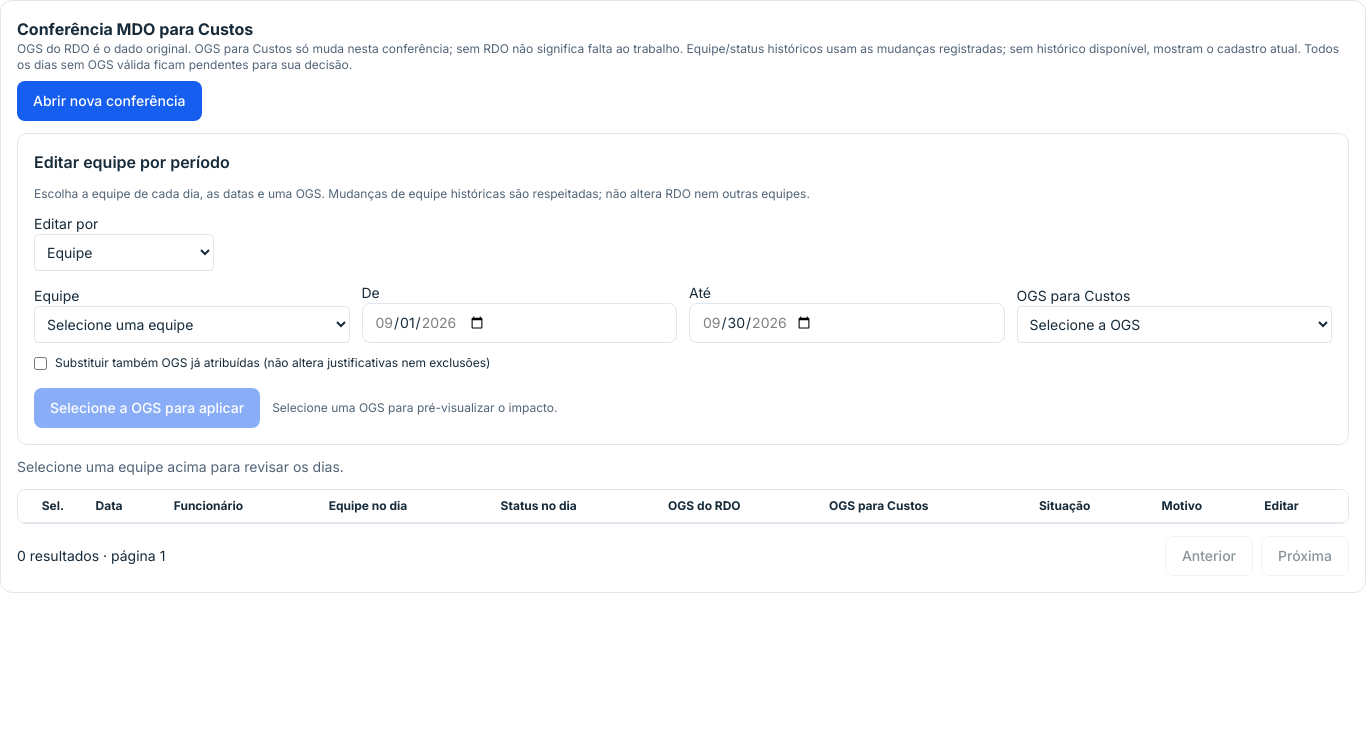
Test: conferência MDO por equipe › mostra os 30 dias de Brian e agrupa 28 em Thiago, 2 em AFASTADOS sem RDO
The width and height of the screenshot is (1366, 739).
Step 1. Select "Funcionário" in the dropdown labelled "Editar por" → (124, 252), box [34,234,214,271]
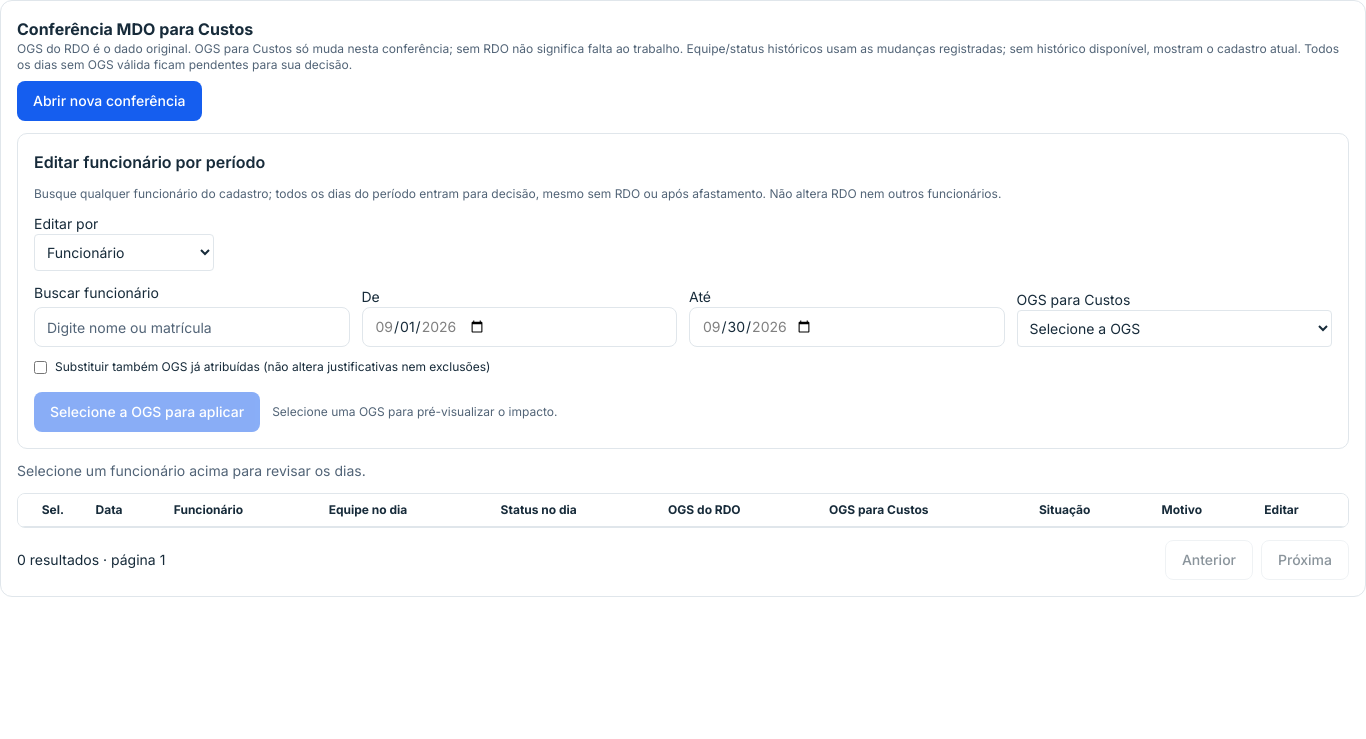
Step 2. Type "brian" into the field named "Buscar funcionário para conferência MDO" → (192, 327), box [34,307,350,347]
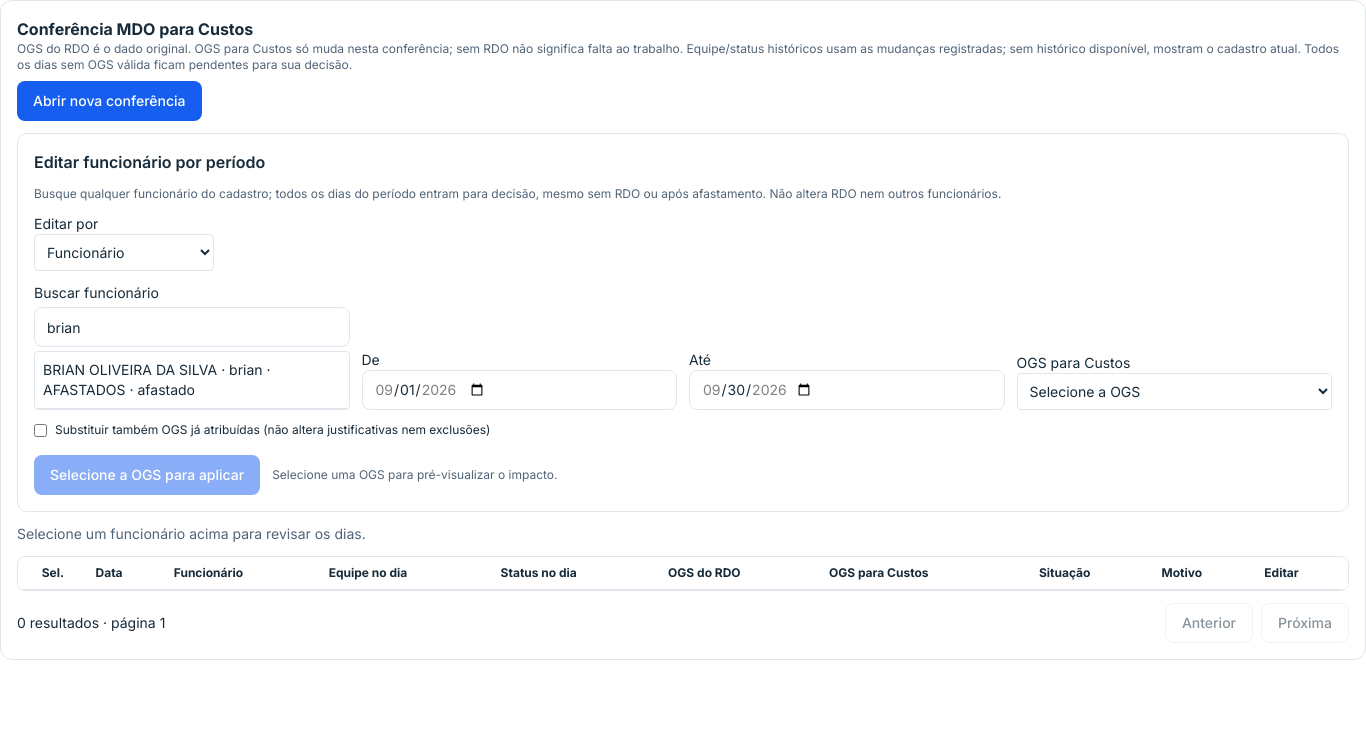
Step 3. Click the button "BRIAN OLIVEIRA DA SILVA · brian · AFASTADOS · afastado" → (192, 380), box [35,352,348,409]
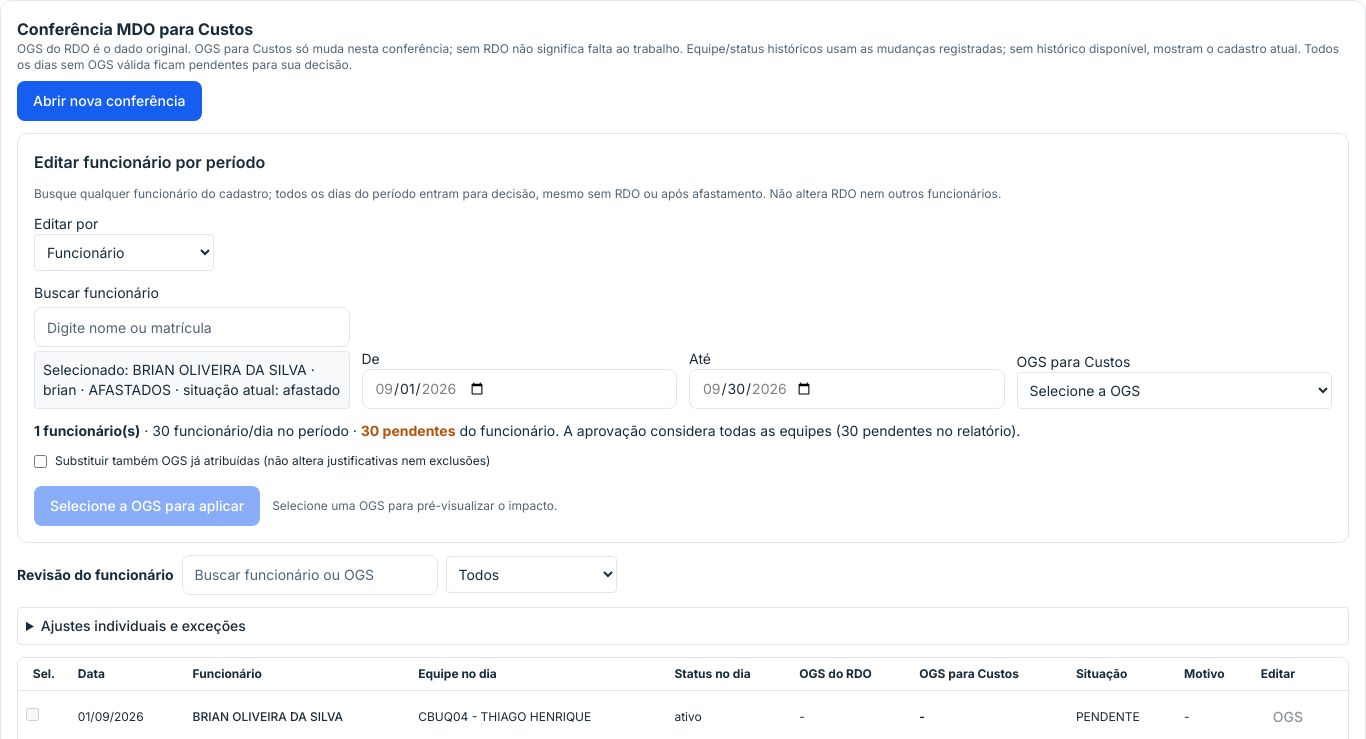
Now the text "30 funcionário/dia no período" is shown, box [34,422,1020,439]
Step 4. Select "Equipe" in the dropdown labelled "Editar por" → (124, 252), box [34,234,214,271]
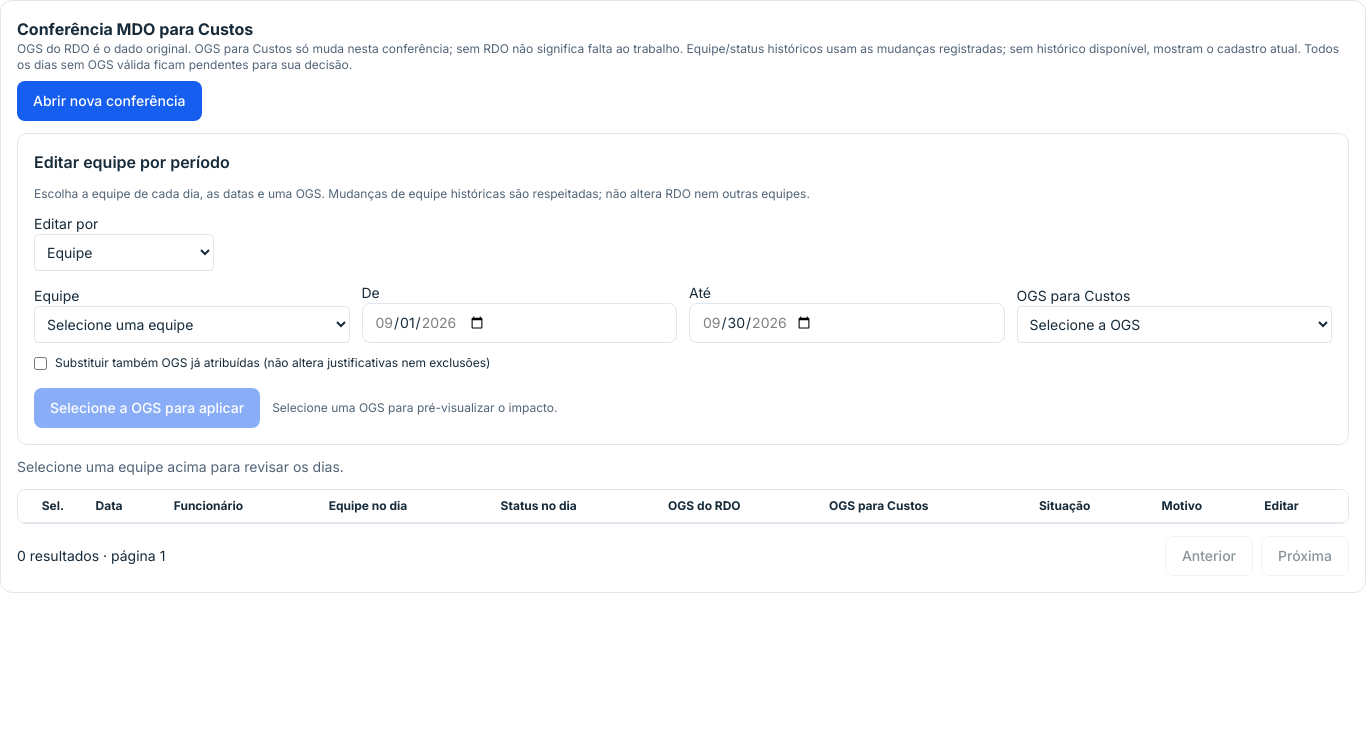
Step 5. Select "CBUQ04 - THIAGO HENRIQUE" in the dropdown named "Equipe para conferência MDO" → (192, 324), box [34,306,350,343]
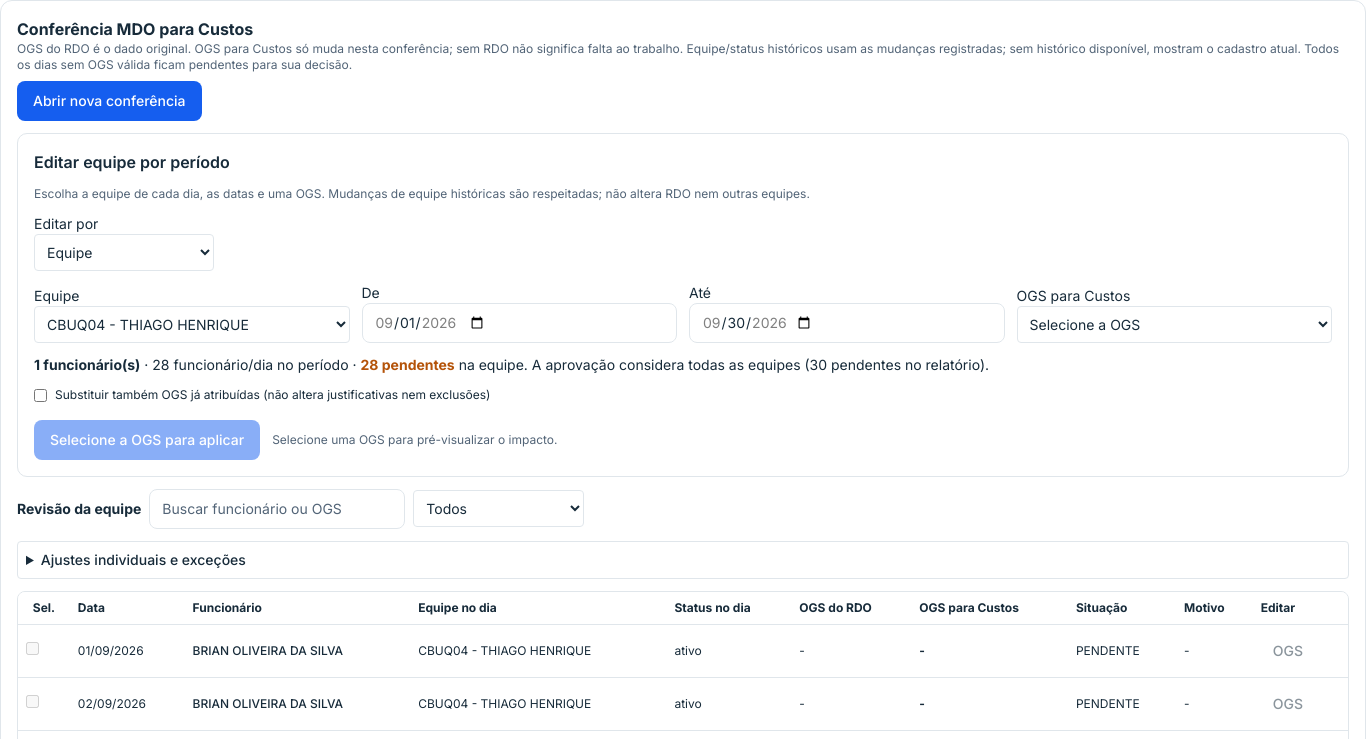
Now the text "28 funcionário/dia no período" is shown, box [34,356,989,373]
Step 6. Select "AFASTADOS" in the dropdown named "Equipe para conferência MDO" → (192, 324), box [34,306,350,343]
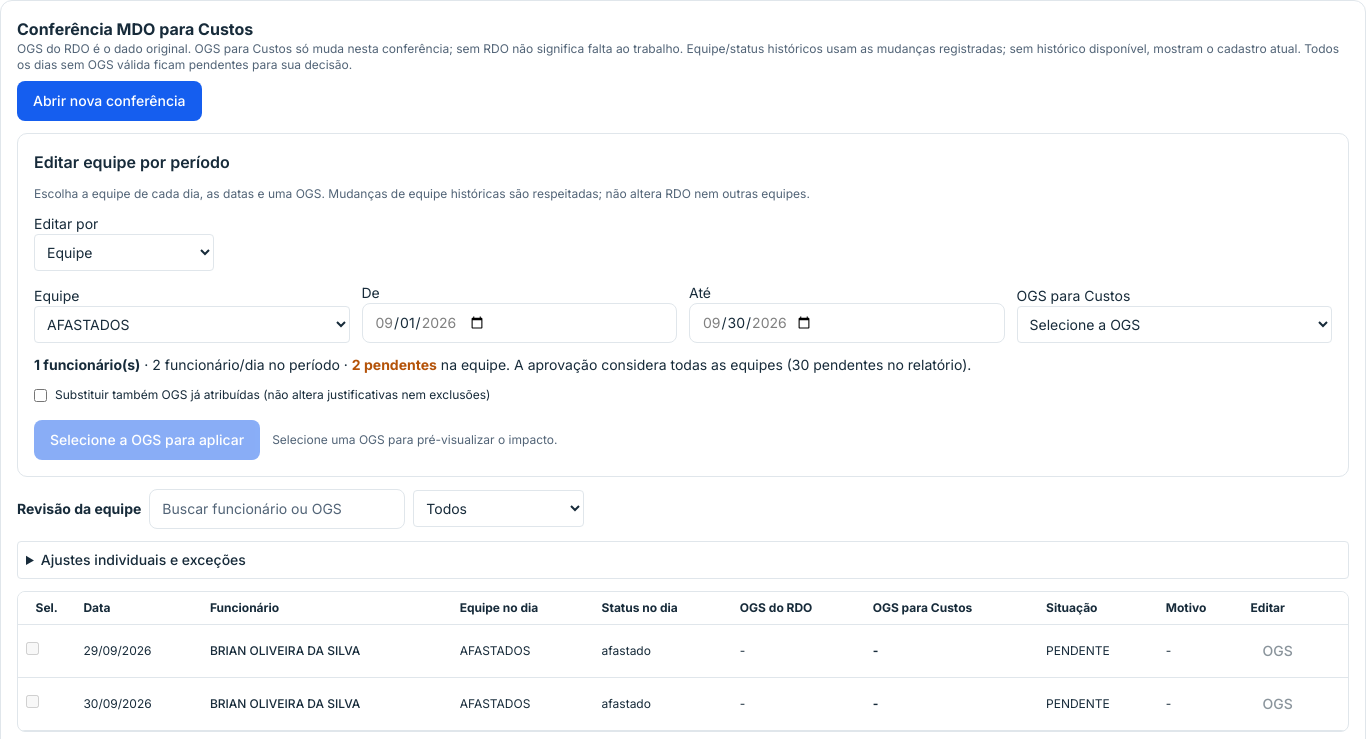
Now the text "2 funcionário/dia no período" is shown, box [34,356,971,373]
